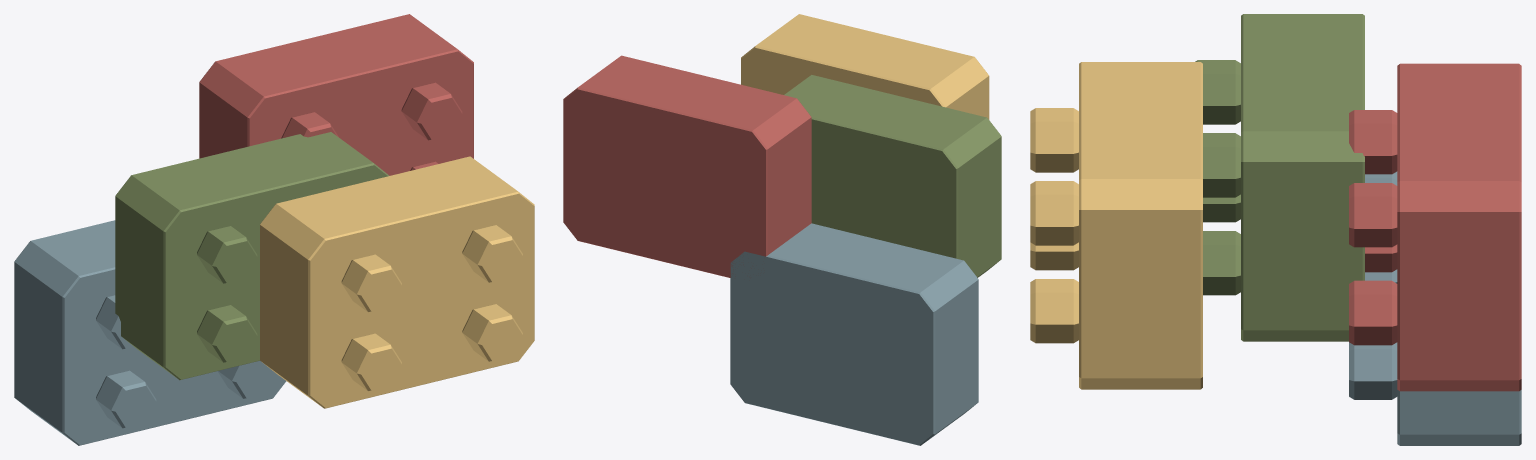
Rendered from building_blocks.glb.
The picture shows the model from 3 angles, left to right: view 1: azimuth 30°, elevation 25°; view 2: azimuth 150°, elevation 25°; view 3: azimuth 270°, elevation 25°; orthographic projection. The views are drawn at different scales.
Parts seen in each view (by area): view 1: building_blocks; view 2: building_blocks; view 3: building_blocks.
Part boxes in pixels (x1,y1,x2,y2): building_blocks: [14, 14, 534, 445]; building_blocks: [563, 14, 1001, 445]; building_blocks: [1030, 14, 1521, 445].
Size of the model in its own units: 0.109 by 0.077 by 0.091.
